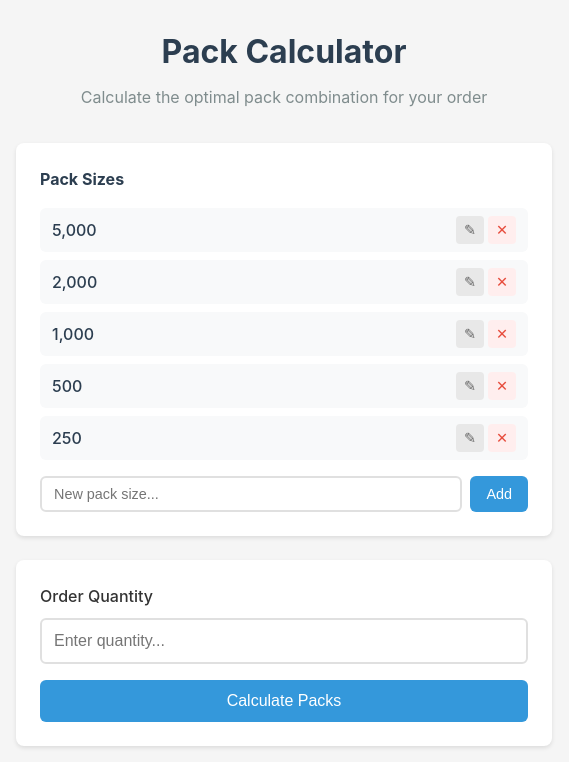
it: App › shows result after successful calculation
Expected: the text "5,000" is shown, [52,218,97,243]
Type "501" into the number field labelled "Order Quantity" at (284, 641), box [40,618,528,664]
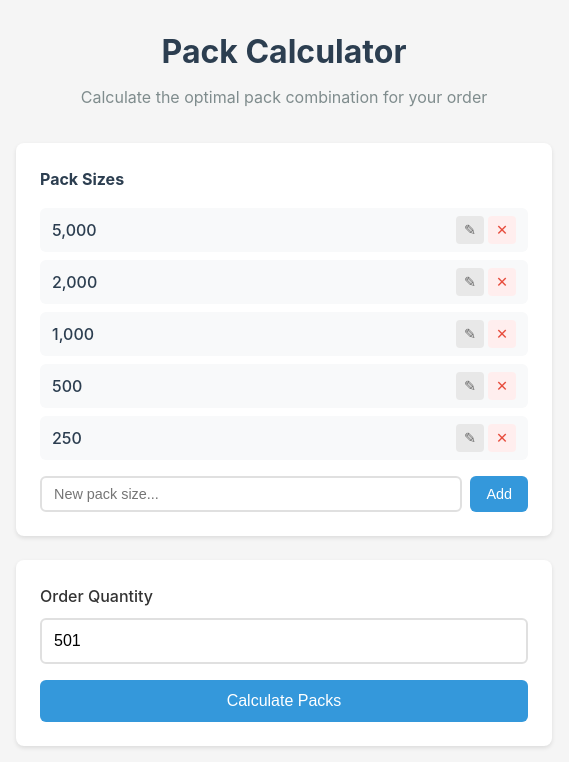
Click the button "Calculate Packs" at (284, 701), box [40,680,528,722]
(page scrolled)
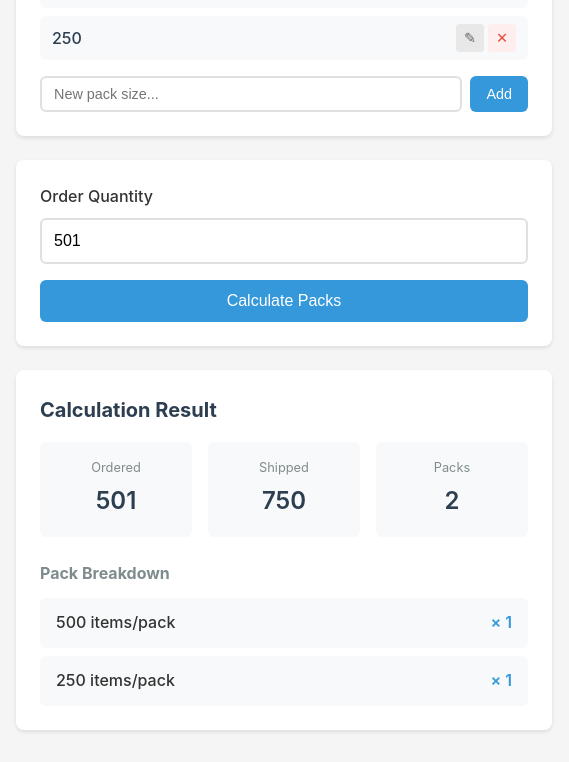
Result: the element with test id "result-card" is shown at [16,370,552,730]
Result: the text "501" is shown at [96,486,136,515]
Result: the text "750" is shown at [262,486,306,515]
